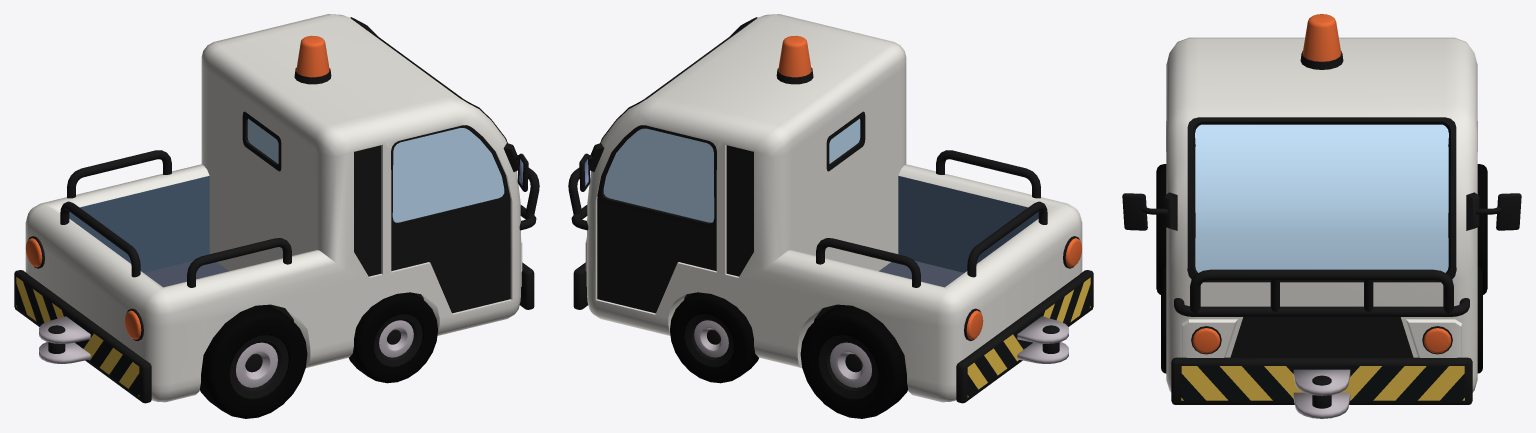
Rendered from 21_1_BaggageTruck_AIRPORT_0.obj.
3 views of the same model, side by side, from view 1: azimuth 30°, elevation 25°; view 2: azimuth 150°, elevation 25°; view 3: azimuth 270°, elevation 25° (orthographic). The views are drawn at different scales.
Parts seen in each view (by area): view 1: 21.1.BaggageTruck_AIRPORT_0; view 2: 21.1.BaggageTruck_AIRPORT_0; view 3: 21.1.BaggageTruck_AIRPORT_0.
Part boxes in pixels (box(x1,y1,x2,y2)): 21.1.BaggageTruck_AIRPORT_0: box(14, 14, 539, 418); 21.1.BaggageTruck_AIRPORT_0: box(568, 14, 1093, 418); 21.1.BaggageTruck_AIRPORT_0: box(1122, 14, 1521, 418).
Bounding box in the file's own units: 7.56 × 4.61 × 4.88.
Materials: 1 (1 with a texture image).
